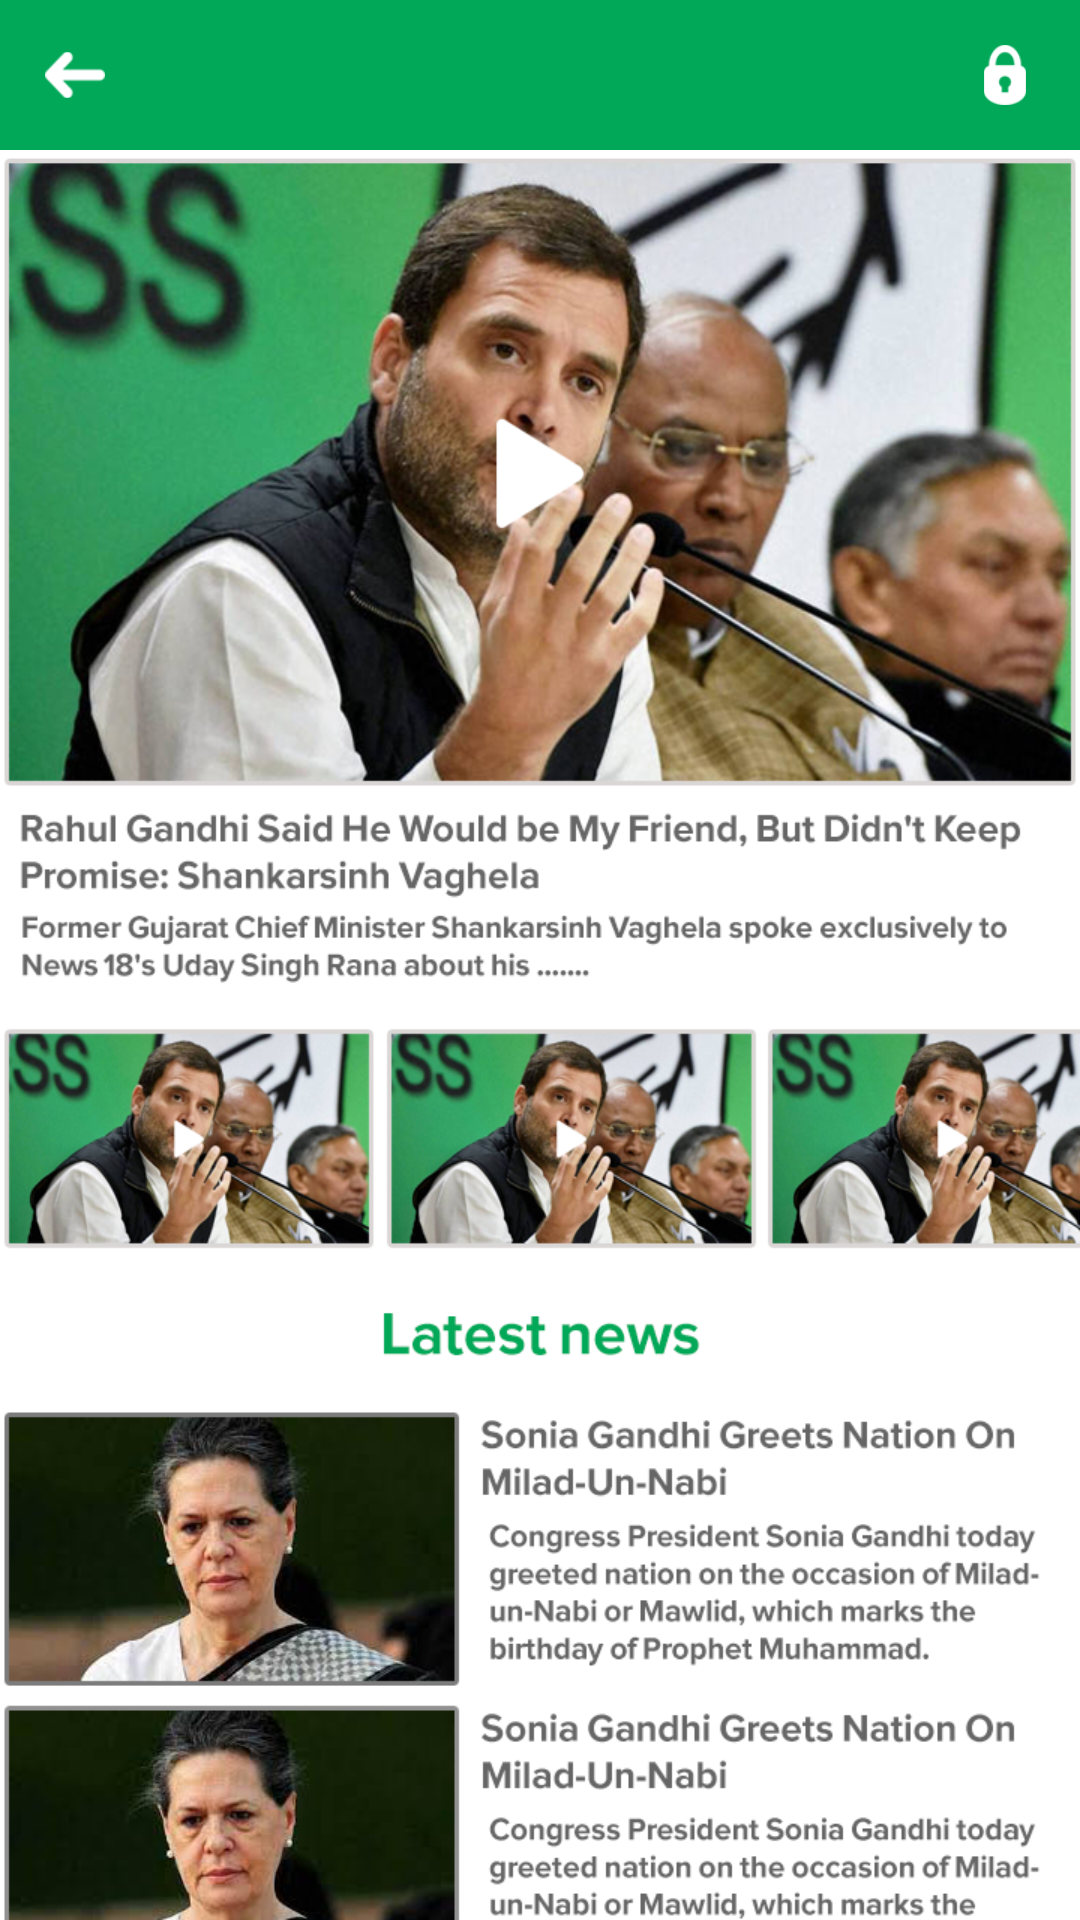

Icons on this 1080px×1920px Android screen, each with the point to tap as (x,y):
back: (75,75)
login: (1005,75)
